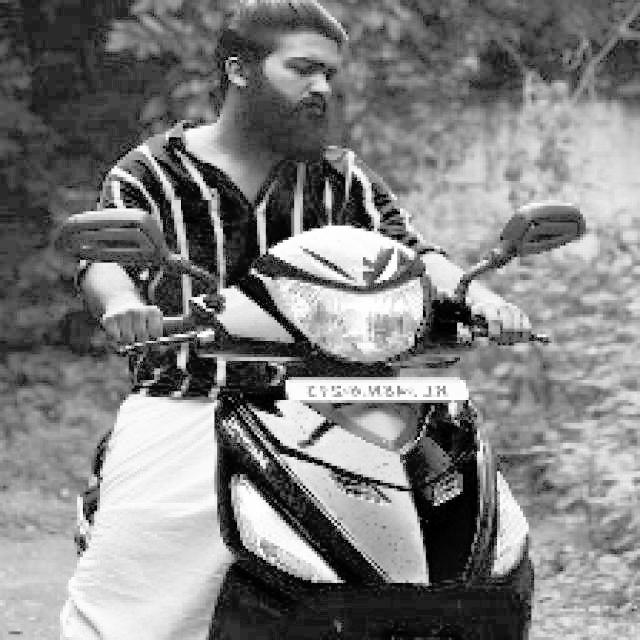Bike: (202, 238, 539, 640)
